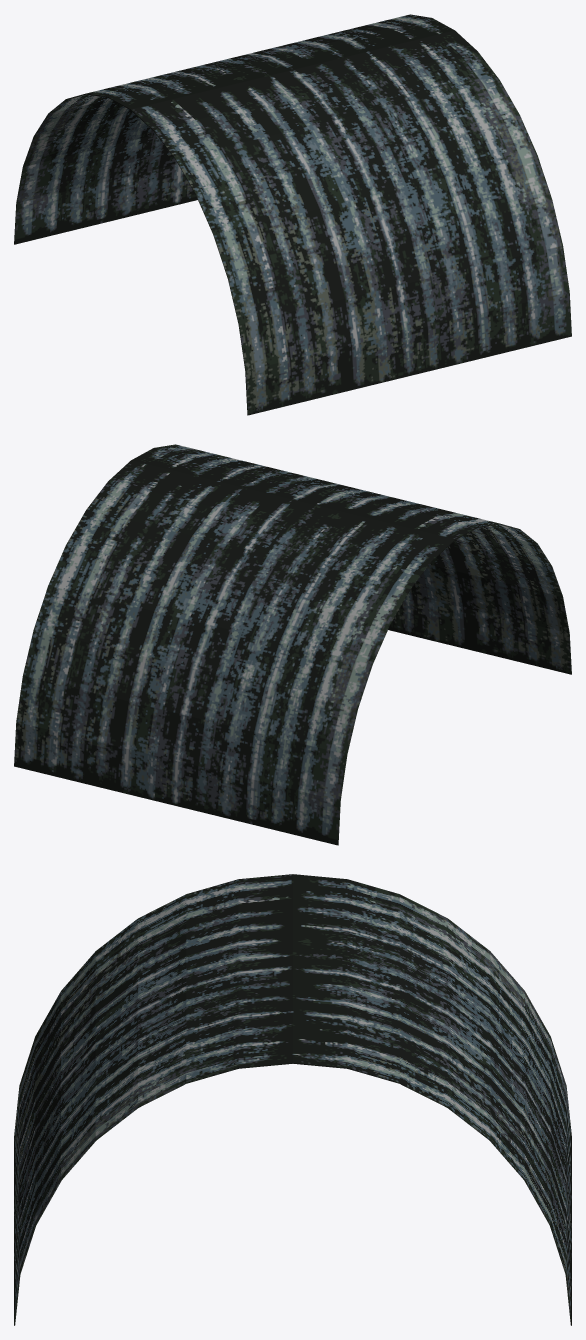
Rendered from SM_EU_MetalTunnel_Small_1.fbx.
3 renders of one model, top to bottom at view 1: azimuth 30°, elevation 25°; view 2: azimuth 150°, elevation 25°; view 3: azimuth 270°, elevation 25°, orthographic. The views are drawn at different scales.
Visible parts, largest first — view 1: SM_EU_MetalTunnel_Small_1; view 2: SM_EU_MetalTunnel_Small_1; view 3: SM_EU_MetalTunnel_Small_1.
Boxes of the visible parts, x1,y1,x2,y2 form: SM_EU_MetalTunnel_Small_1: (14,14,571,415); SM_EU_MetalTunnel_Small_1: (14,444,571,845); SM_EU_MetalTunnel_Small_1: (14,874,571,1325).
Bounding box in the file's own units: 4 × 5 × 2.6.
